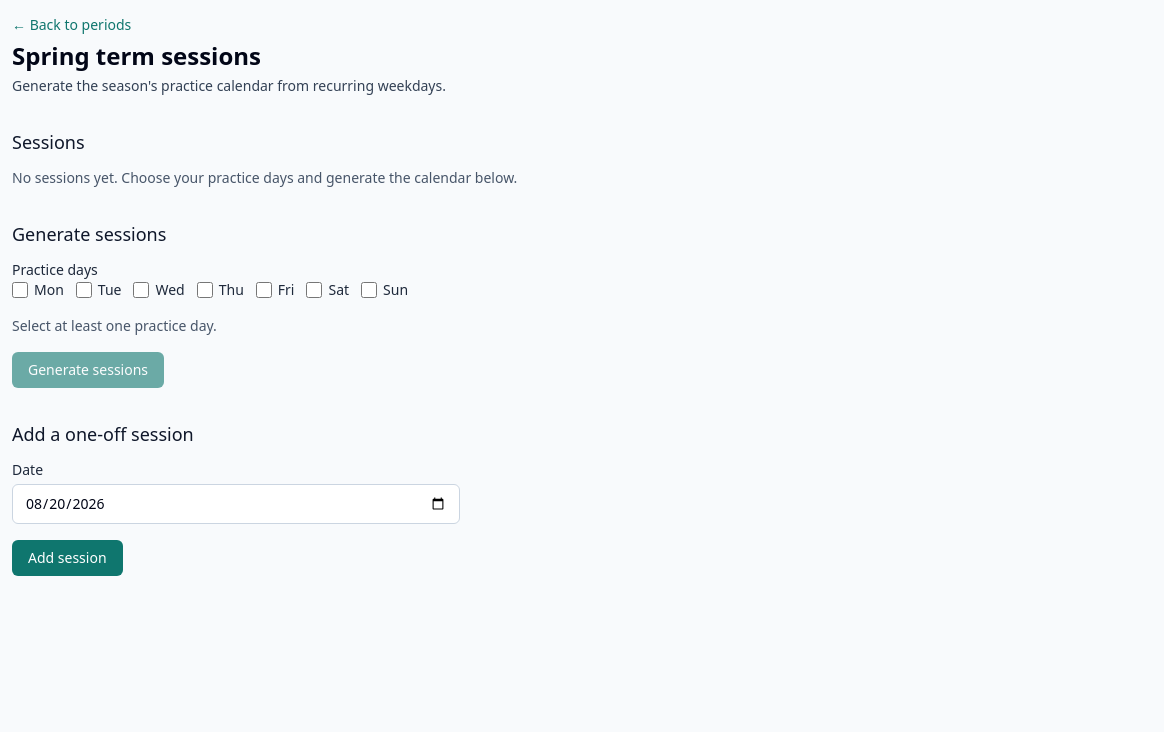
Test: SessionsPage › generates sessions and reloads the list
Expected: the text "No sessions yet" is shown, [12, 168, 517, 187]
Click the checkbox labelled "Tue": x=84, y=290 [76, 282, 92, 298]
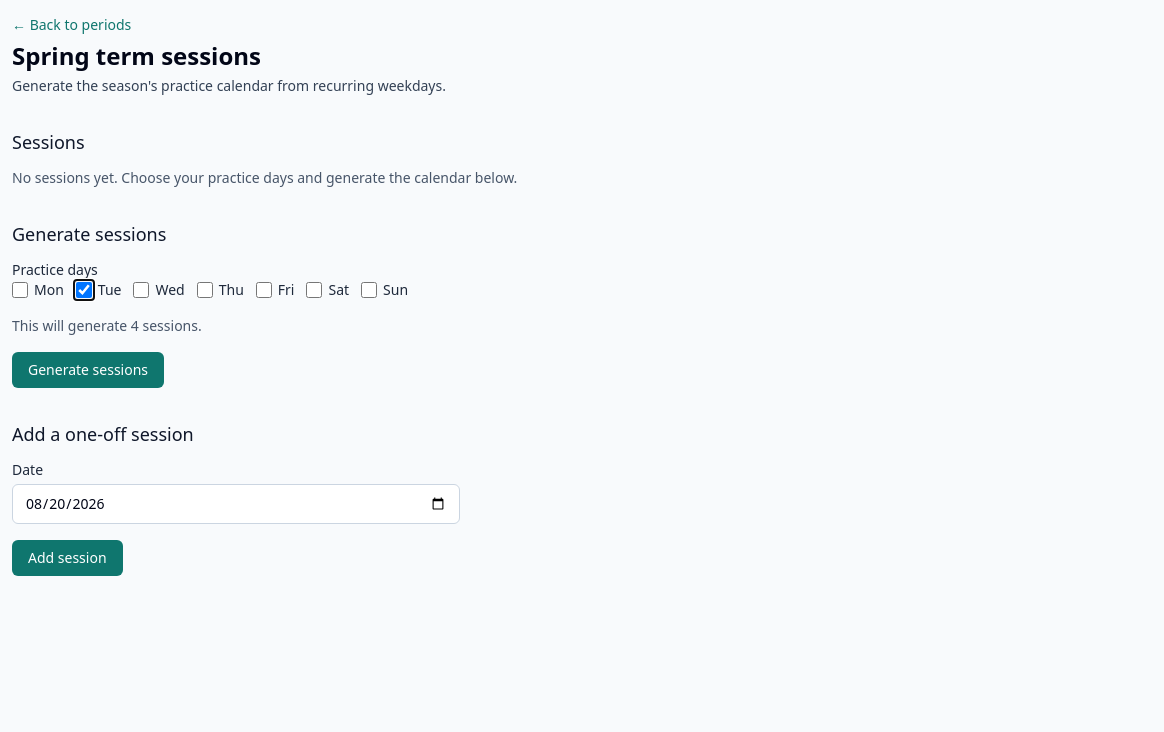
Click the button "Generate sessions": x=88, y=370 [12, 352, 164, 388]
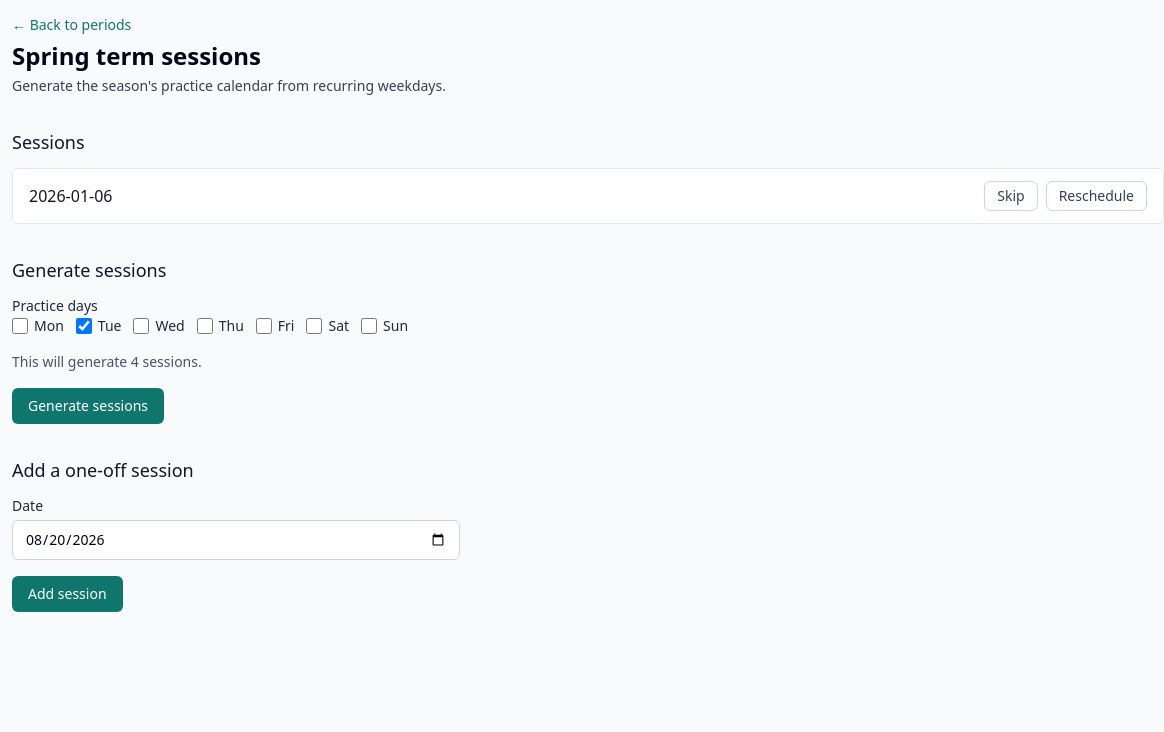
Now the text "2026-01-06" is shown, box [29, 185, 112, 207]
